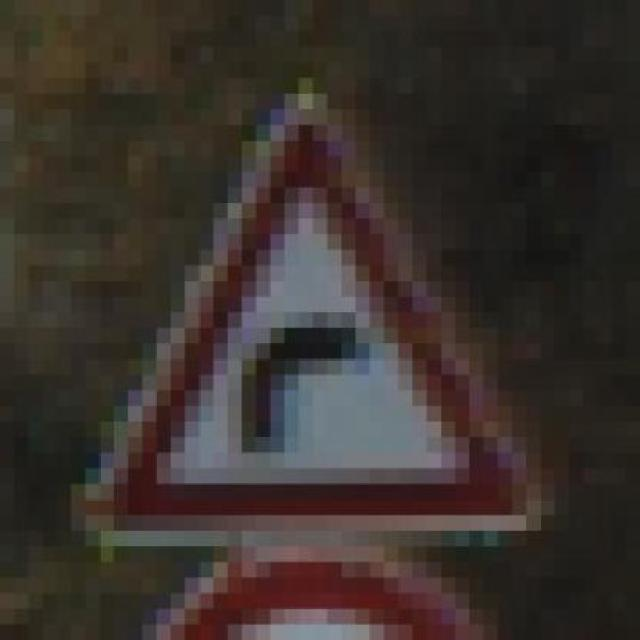Dangerous Rright Curve Ahead: (72, 62, 540, 547)
